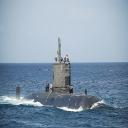submarine: (12, 39, 111, 110)
